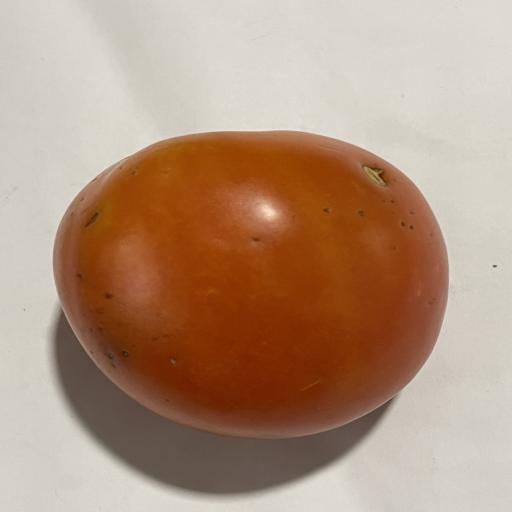ripe: (54, 131, 448, 438)
